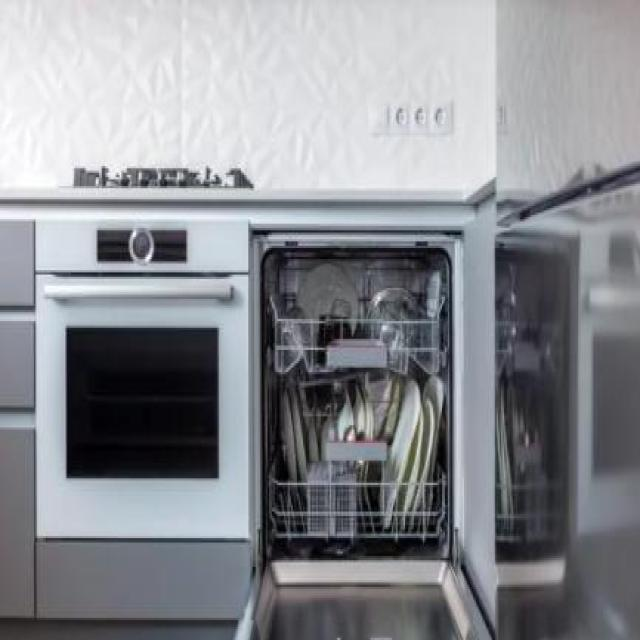dishwasher: (235, 219, 492, 638)
